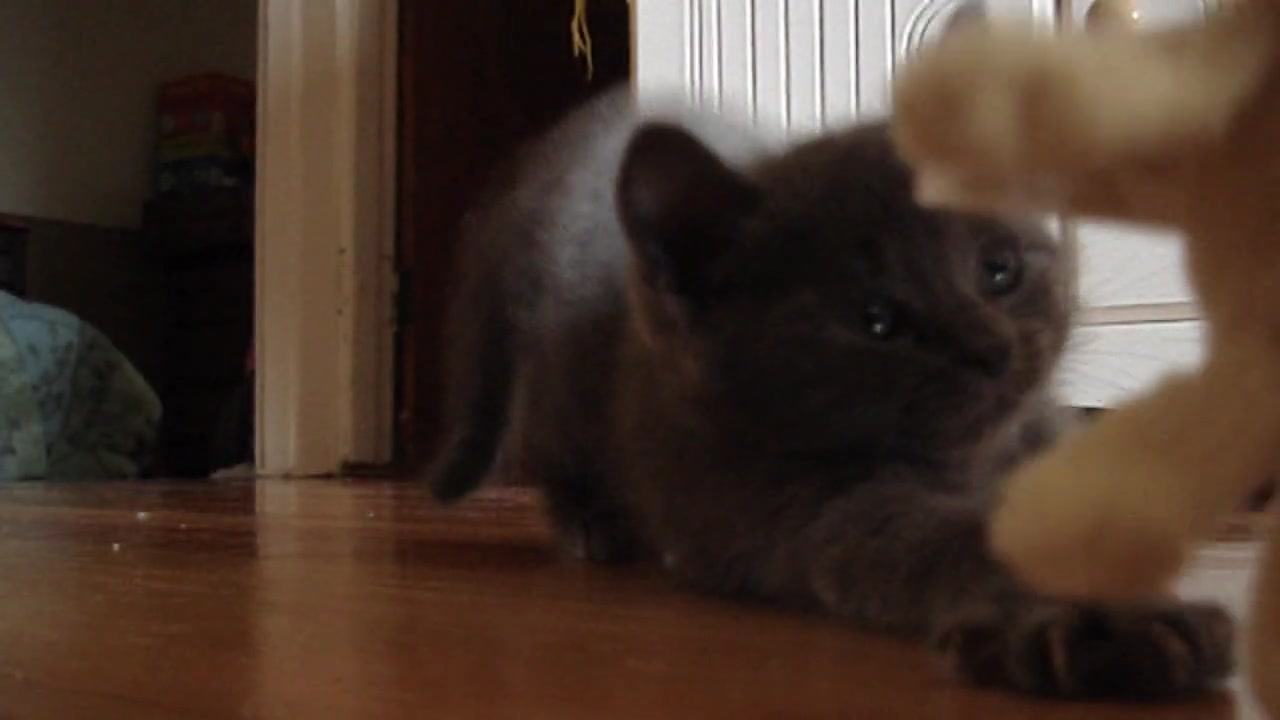cat: (423, 90, 1249, 695)
